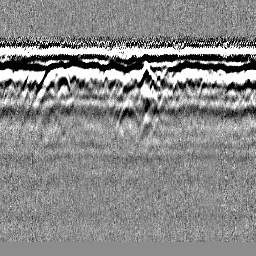cavity: (115, 99, 140, 136)
